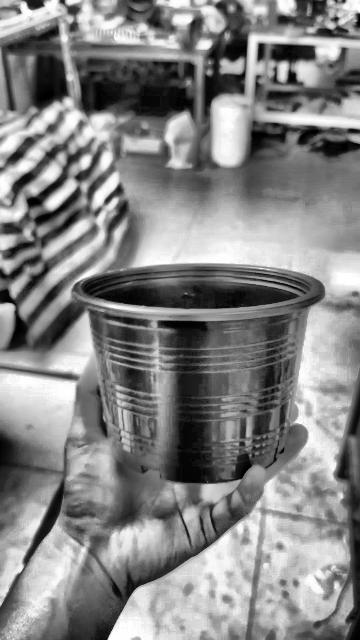pot: (71, 261, 323, 484)
